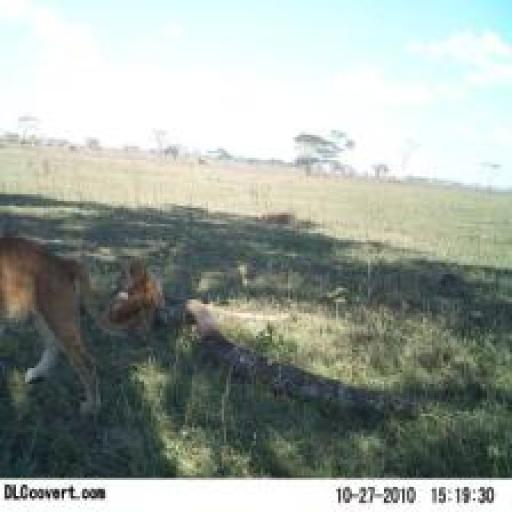lion: (4, 220, 111, 442), (110, 260, 185, 359)
